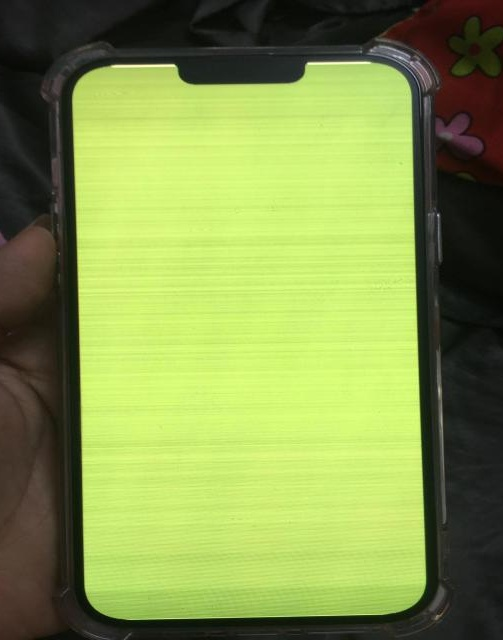screen_defect: (105, 85, 379, 204), (125, 546, 407, 615), (111, 393, 390, 443), (99, 285, 418, 316), (124, 492, 392, 527), (87, 228, 397, 248)
